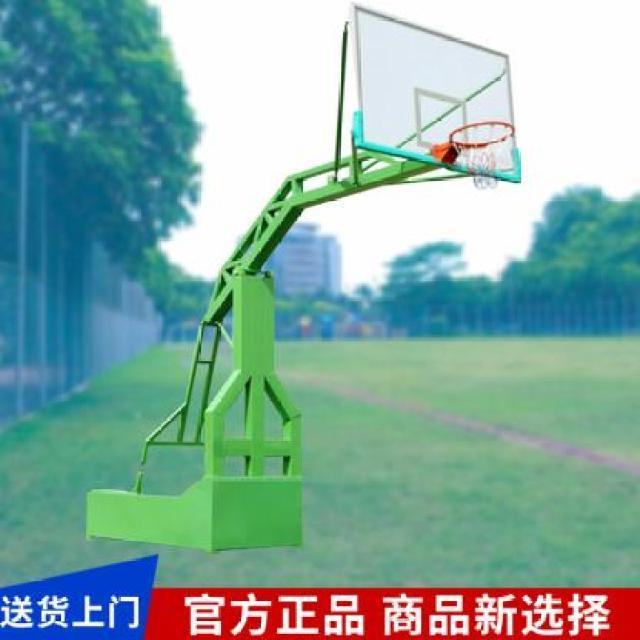rim: (450, 121, 516, 190)
